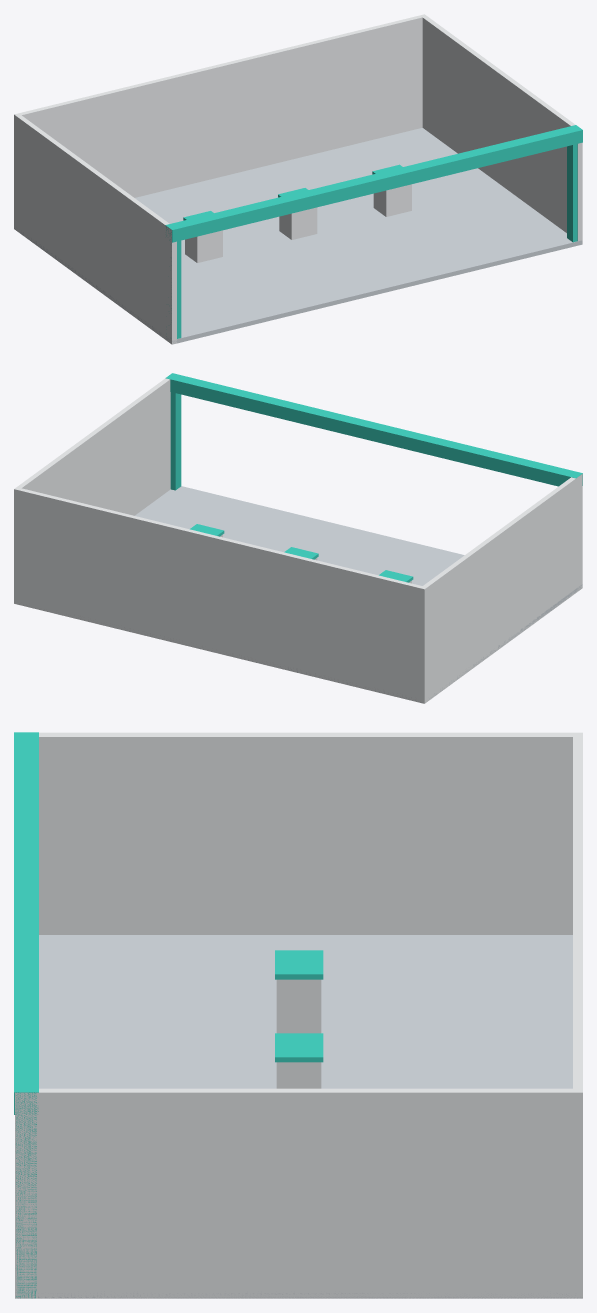
3 renders of one model, top to bottom at view 1: azimuth 30°, elevation 25°; view 2: azimuth 150°, elevation 25°; view 3: azimuth 270°, elevation 25°, orthographic. The views are drawn at different scales.
Visible parts, largest first — view 1: Exhibition Booth Concept; view 2: Exhibition Booth Concept; view 3: Exhibition Booth Concept.
Boxes of the visible parts, left/top/right/bottom form: Exhibition Booth Concept: left=14, top=14, right=582, bottom=344; Exhibition Booth Concept: left=14, top=373, right=582, bottom=703; Exhibition Booth Concept: left=14, top=732, right=582, bottom=1298.
Bounding box in the file's own units: 12 × 3.2 × 8.01.
